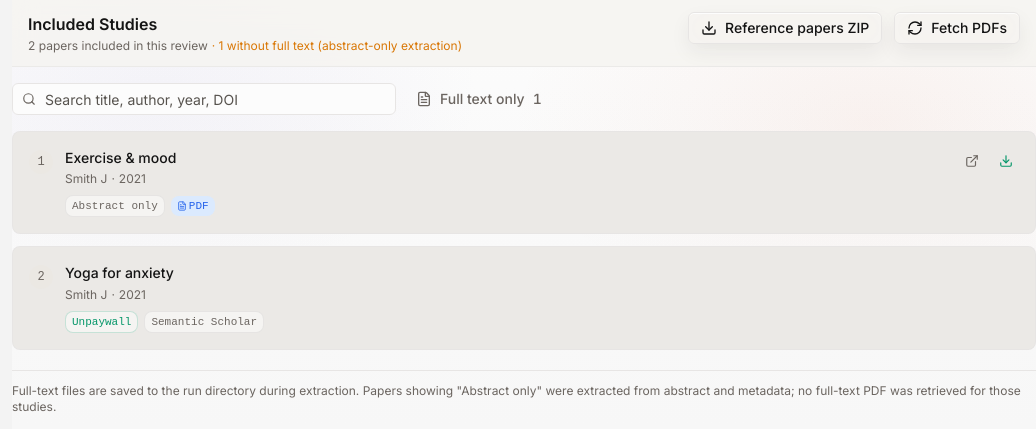
Test case: ReferencesView › filters by search and full text only, and clears
In the search field named "Search included studies": (204, 99) [12,83,396,115], type "yoga"
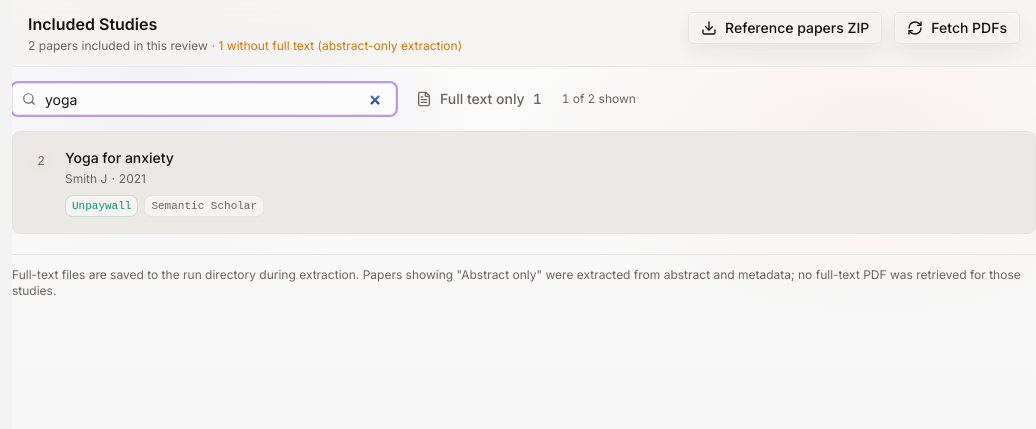
Expected: the text "Exercise & mood" is gone
Expected: the text "1 of 2 shown" is shown, [562,91,636,107]
Click the button "Full text only 1": click(479, 99) [404,83,554,115]
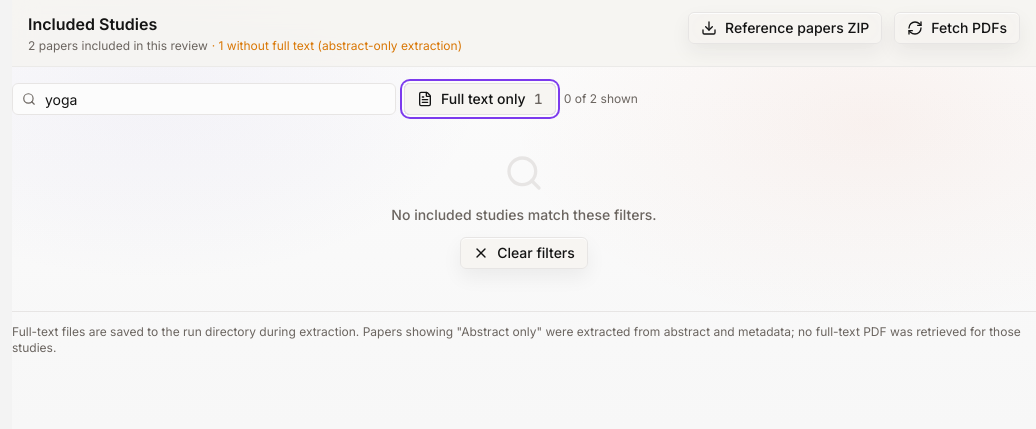
Expected: the text "No included studies match these filters." is shown, [391,205,657,225]
Click the button "Clear filters": click(524, 253) [460,237,588,269]
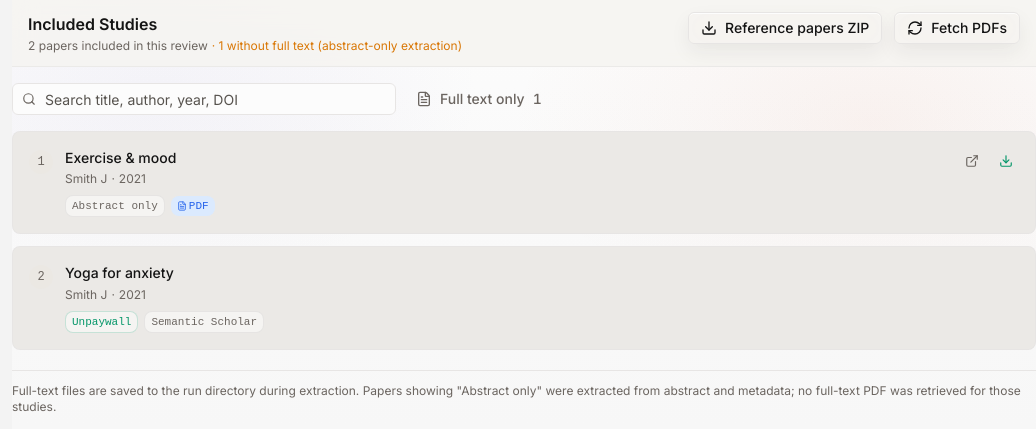
Expected: the text "Exercise & mood" is shown, [65,149,176,166]
Expected: the text "Yoga for anxiety" is shown, [65,264,174,281]
